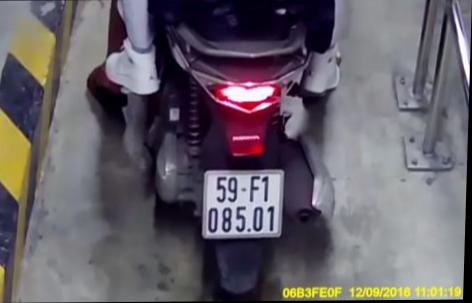LP: (202, 167, 286, 239)
